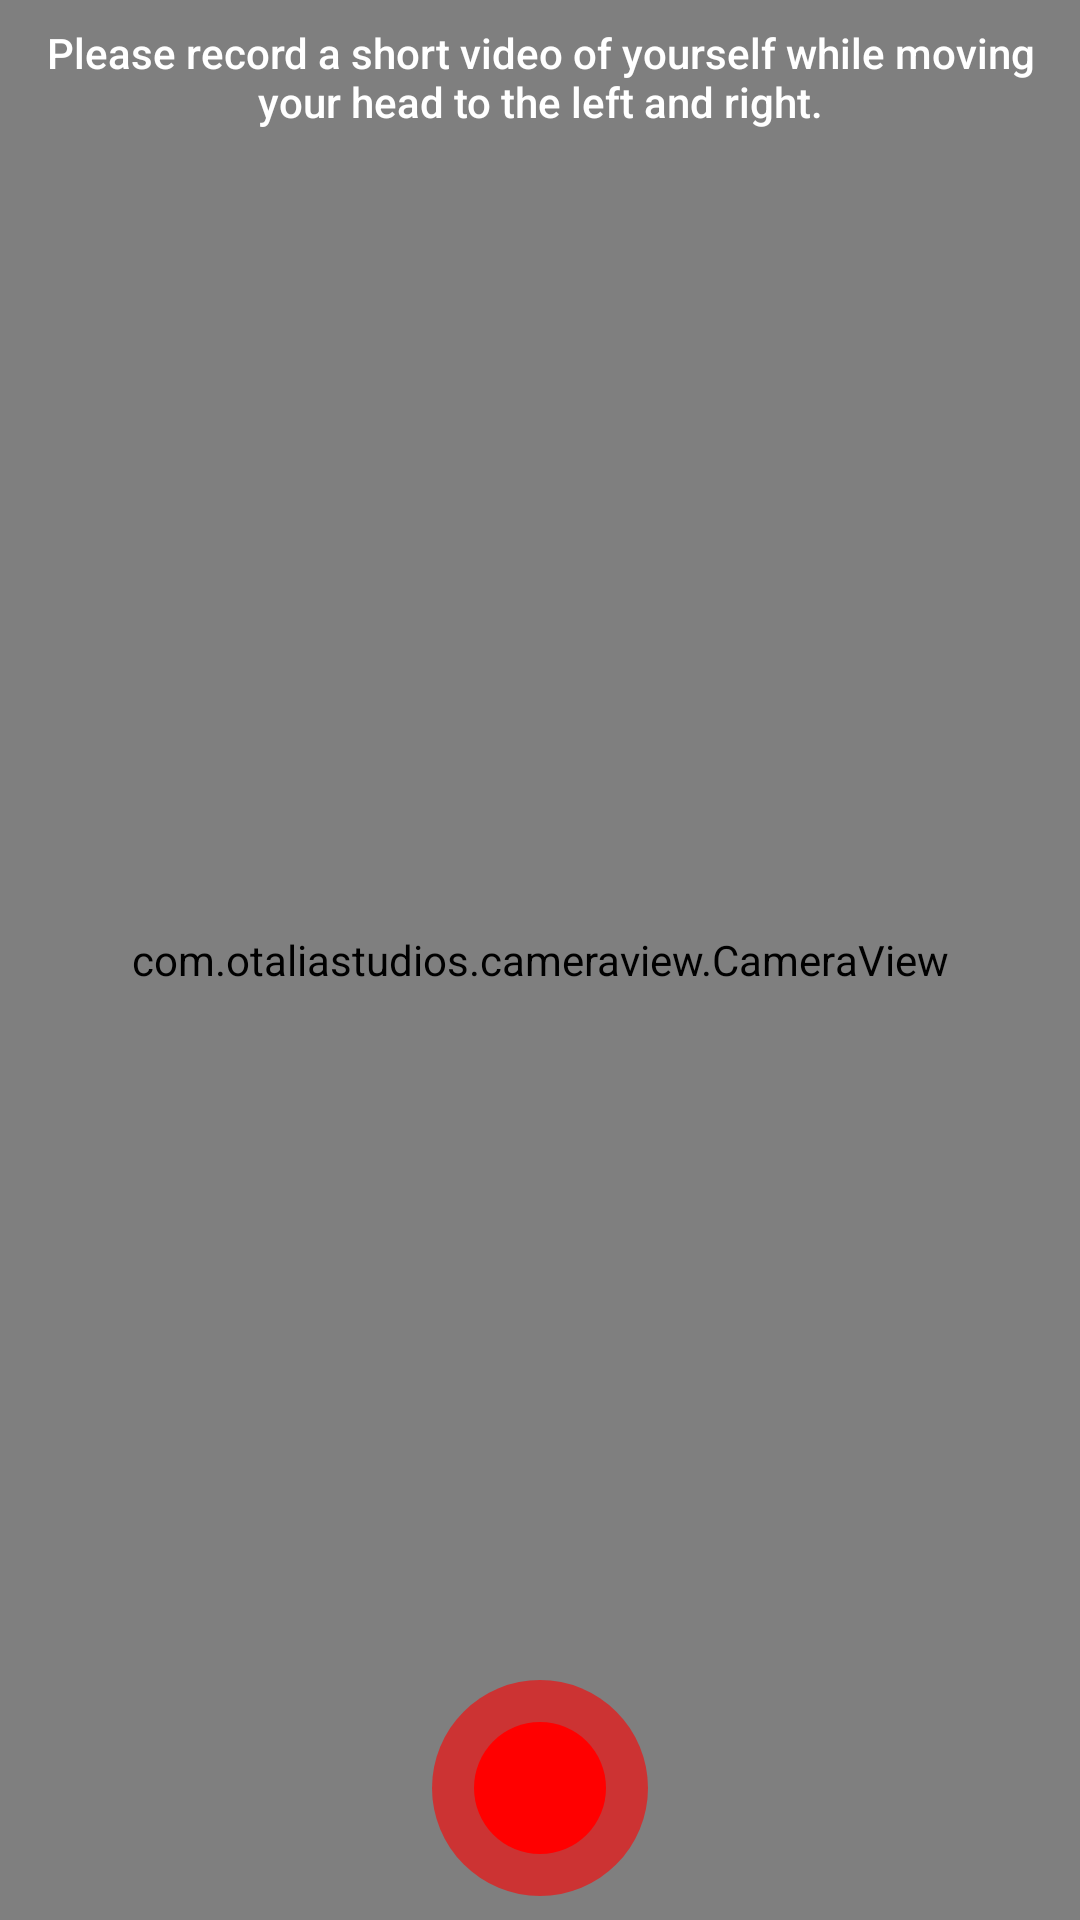

Screen size 1080x1920. Icon name, then its center in pixels as [x,y]:
record: [540,1788]
